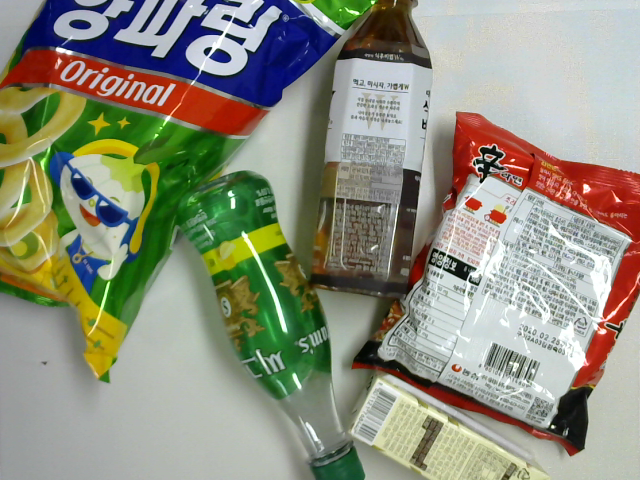99.89_Soymilk: (344, 365, 552, 480)
Oninon_Ring: (1, 1, 387, 386)
Post-meal_recipe_W_tea_500ml: (306, 1, 435, 301)
Seagram_Lemon_Carbonated_Water: (177, 167, 368, 479)
Sinramen: (350, 110, 640, 459)
